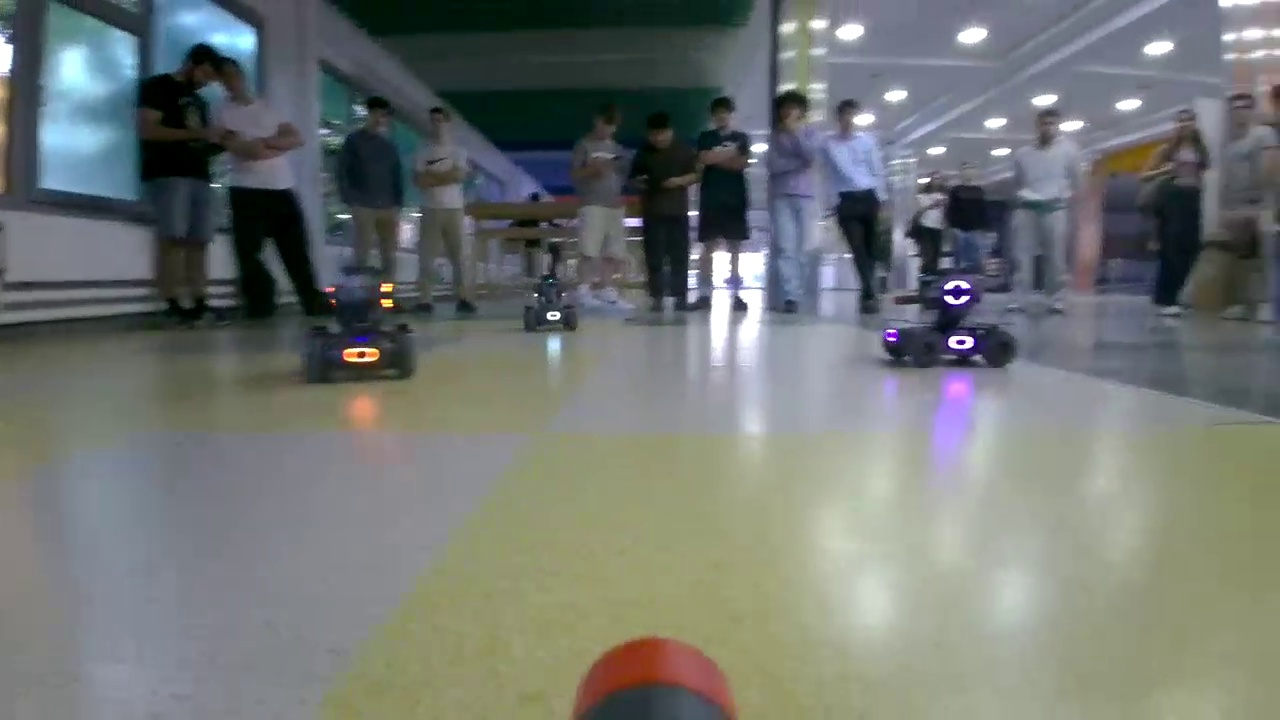robot: (304, 264, 428, 382), (882, 270, 1014, 368), (521, 272, 582, 328)
